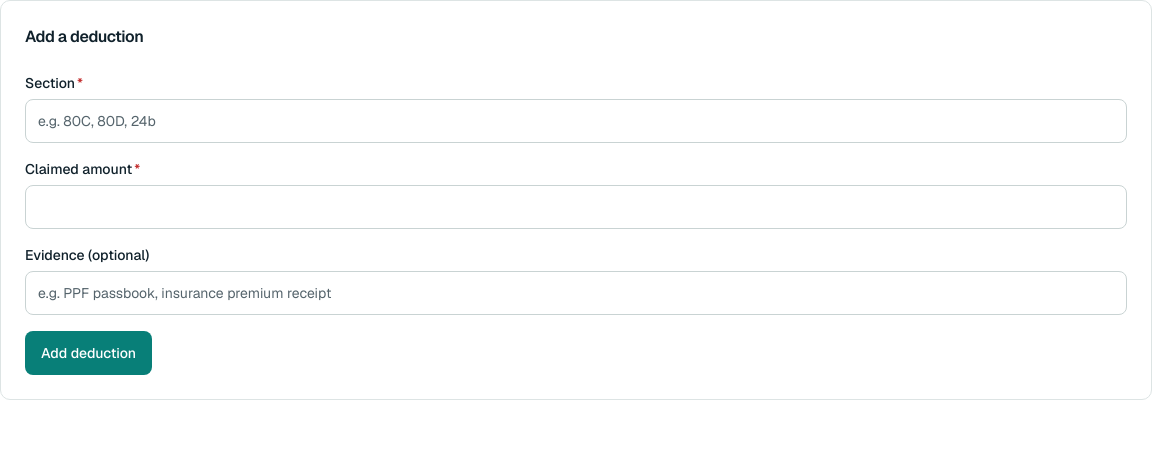
it: TaxDeductionForm — creating a deduction › shows the generic Server Action error message
Click the button "Add deduction": [89, 353] box left=25, top=331, right=152, bottom=375
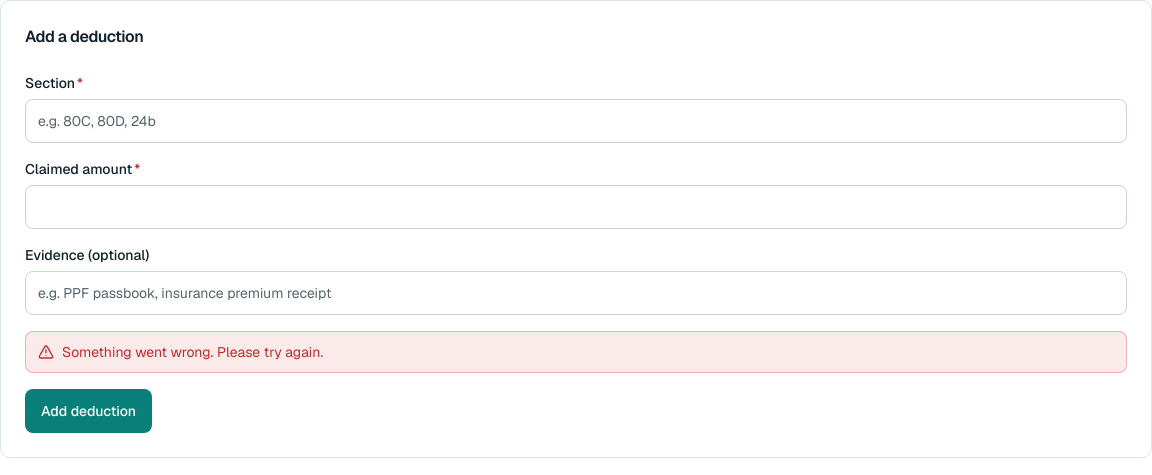
Now the text "Something went wrong. Please try again." is shown, box left=62, top=342, right=323, bottom=362
